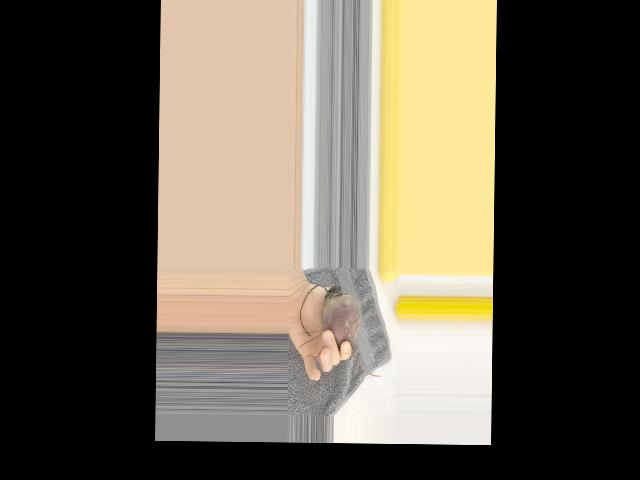beet: (298, 285, 382, 376)
